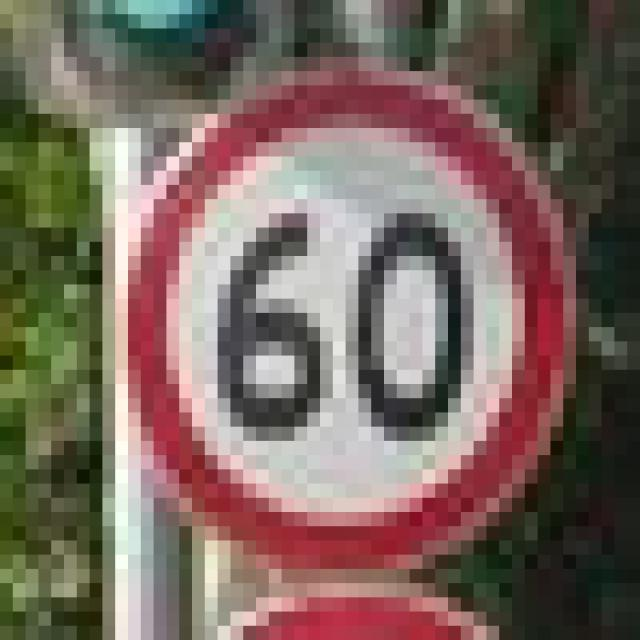speed_limit_40: (115, 57, 563, 555)
